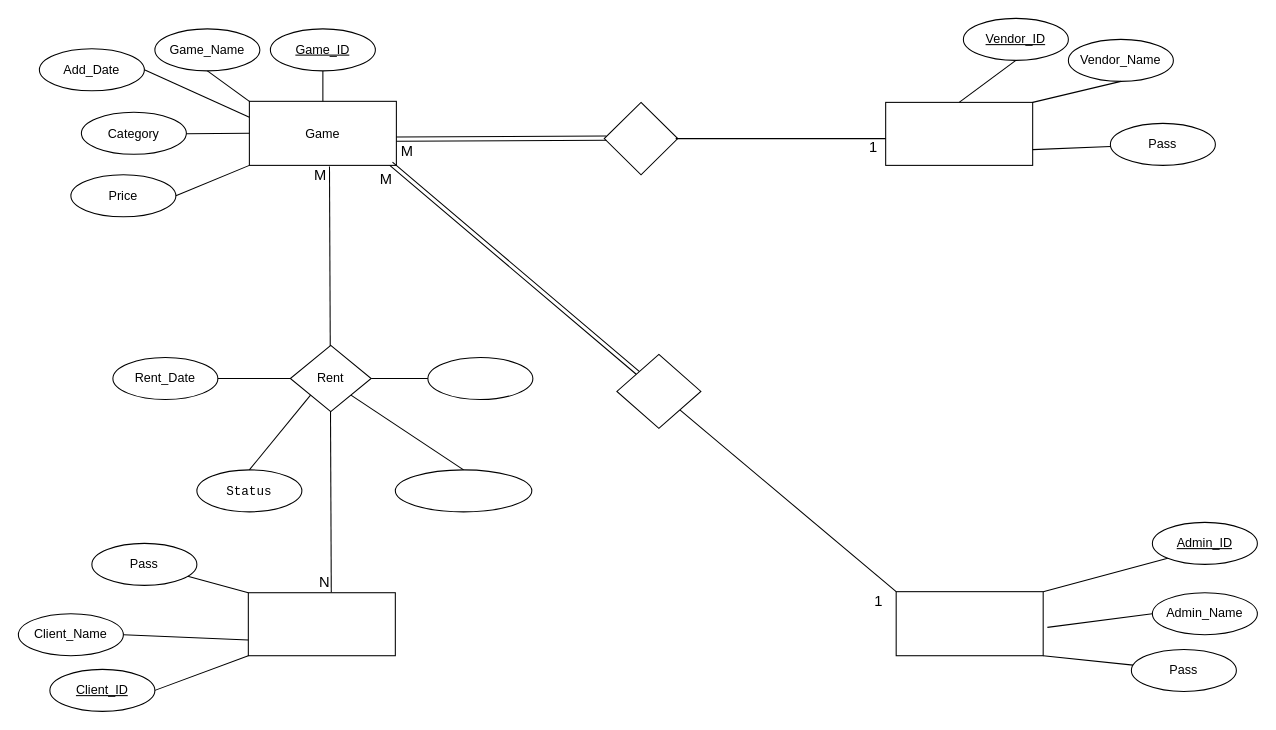
This 1276x730 diagram has some shape labels left out. The box of each missing label's shape, as (x1, y1, x2, y2) in pixels:
Actual_Return_Date: (394, 469, 532, 512)
Admin: (895, 591, 1043, 656)
Client: (247, 592, 395, 656)
Develop: (603, 101, 678, 175)
Manage: (616, 353, 701, 428)
Return_Date: (427, 356, 533, 400)
Vendor: (885, 101, 1033, 165)
